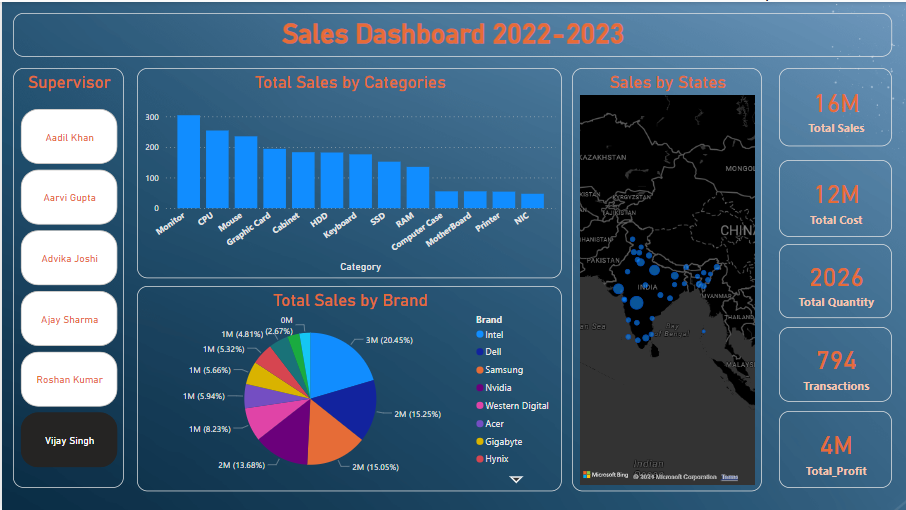

What the dashboard file says about the page in this screenshot:
{"tool":"powerbi","page":{"name":"Page 1","canvas":[1280,720],"ordinal":0},"visuals":[{"type":"textbox","title":"Sales Dashboard 2022-2023","box":[15.6,15.6,1245.8,62.4],"z":0},{"type":"card","fields":{"Values":["Sales_Data.Total_Sales"]},"box":[1101.3,93.5,160.2,110.6],"z":1000},{"type":"card","fields":{"Values":["Sales_Data.Total_Cost"]},"box":[1101.3,223.9,160.2,109.1],"z":2000},{"type":"card","fields":{"Values":["Sales_Data.Quantity"]},"box":[1101.3,343,160.2,104.9],"z":3000},{"type":"card","fields":{"Values":["Sales_Data.Order_Number"]},"box":[1101.3,460.6,160.2,106.3],"z":4000},{"type":"card","fields":{"Values":["Sales_Data.Total_Profit"]},"box":[1101.3,579.7,160.2,109.1],"z":5000},{"type":"clusteredColumnChart","title":"Quantity","fields":{"Y":["Sales_Data.Quantity"],"Category":["Sales_Data.Category"]},"box":[191.3,93.5,602.4,297.6],"z":6000},{"type":"pieChart","fields":{"Y":["Sales_Data.Total_Sales"],"Category":["Sales_Data.Brand"]},"box":[191.3,402.5,602.4,290.6],"z":7000},{"type":"map","title":"Sales by States","fields":{"Category":["State_list.State"],"Size":["Sales_Data.Sales"]},"box":[807.9,93.5,269.3,599.5],"z":8000},{"type":"advancedSlicerVisual","fields":{"Values":["Supervisor.Supervisor"]},"box":[15.6,93.5,157.3,595.3],"z":9000}]}

Visuals, with their boxes in screenshot pixels (x1, y1, x2, y2), scaled from the page's 1280x720 canvas onto the 906x510 screenshot:
"Sales Dashboard 2022-2023" textbox: (11,11,893,55)
card - Sales_Data.Total_Sales: (780,66,893,145)
card - Sales_Data.Total_Cost: (780,159,893,236)
card - Sales_Data.Quantity: (780,243,893,317)
card - Sales_Data.Order_Number: (780,326,893,402)
card - Sales_Data.Total_Profit: (780,411,893,488)
"Quantity" clusteredColumnChart: (135,66,562,277)
pieChart - Sales_Data.Total_Sales x Sales_Data.Brand: (135,285,562,491)
"Sales by States" map: (572,66,762,491)
advancedSlicerVisual - Supervisor.Supervisor: (11,66,122,488)
